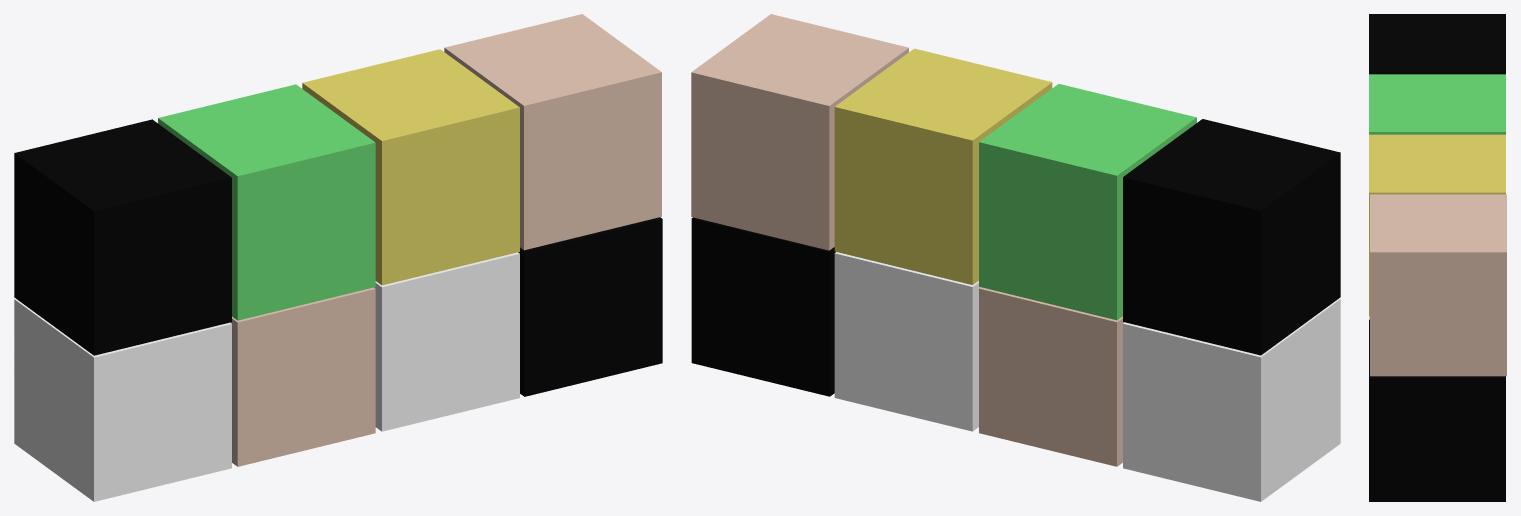
The model's file is goods.fbx.
3 renders of one model, left to right at view 1: azimuth 30°, elevation 25°; view 2: azimuth 150°, elevation 25°; view 3: azimuth 270°, elevation 25°, orthographic. The views are drawn at different scales.
Visible parts, largest first — view 1: Cube.089, Cube.085, Cube.087, Cube.088, Cube.081, Cube.084, Cube.086, Cube.082; view 2: Cube.089, Cube.085, Cube.087, Cube.088, Cube.081, Cube.084, Cube.086, Cube.082; view 3: Cube.081, Cube.082, Cube.085, Cube.087, Cube.089.
Part boxes in pixels (<box>): Cube.089: <box>14,119,231,355</box>; Cube.085: <box>302,49,519,285</box>; Cube.087: <box>158,84,375,320</box>; Cube.088: <box>14,299,231,501</box>; Cube.081: <box>444,14,661,250</box>; Cube.084: <box>374,252,519,431</box>; Cube.086: <box>230,287,375,466</box>; Cube.082: <box>518,217,662,396</box>; Cube.089: <box>1123,119,1340,355</box>; Cube.085: <box>834,48,1052,284</box>; Cube.087: <box>979,84,1196,320</box>; Cube.088: <box>1123,298,1340,501</box>; Cube.081: <box>691,14,908,250</box>; Cube.084: <box>834,252,980,431</box>; Cube.086: <box>979,287,1124,466</box>; Cube.082: <box>691,217,835,396</box>; Cube.081: <box>1370,194,1506,376</box>; Cube.082: <box>1369,320,1505,501</box>; Cube.085: <box>1369,134,1505,316</box>; Cube.087: <box>1369,74,1505,134</box>; Cube.089: <box>1369,14,1505,74</box>.
Size of the model in its own units: 41.21 by 20.13 by 10.06.
